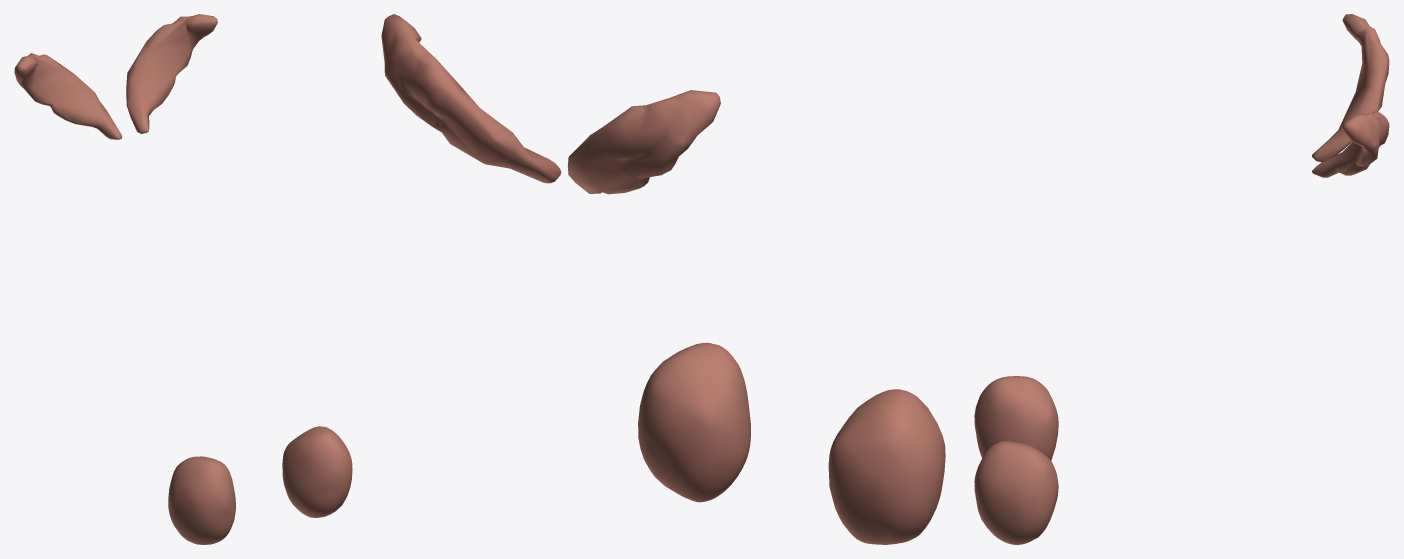
The model's file is reproductive.glb.
3 renders of one model, left to right at view 1: azimuth 30°, elevation 25°; view 2: azimuth 150°, elevation 25°; view 3: azimuth 270°, elevation 25°, orthographic. The views are drawn at different scales.
Visible parts, largest first — view 1: testis_l, seminal_l, testis_r, seminal_r; view 2: testis_r, testis_l, seminal_l, seminal_r; view 3: testis_l, testis_r, seminal_r, seminal_l.
Boxes of the visible parts, left/top/right/bottom form: testis_l: left=282, top=426, right=352, bottom=517; seminal_l: left=126, top=14, right=217, bottom=133; testis_r: left=168, top=456, right=235, bottom=544; seminal_r: left=14, top=53, right=122, bottom=139; testis_r: left=828, top=389, right=945, bottom=544; testis_l: left=638, top=342, right=750, bottom=502; seminal_l: left=381, top=14, right=561, bottom=183; seminal_r: left=567, top=90, right=720, bottom=194; testis_l: left=974, top=441, right=1058, bottom=544; testis_r: left=974, top=376, right=1058, bottom=460; seminal_r: left=1312, top=14, right=1389, bottom=162; seminal_l: left=1312, top=111, right=1389, bottom=177.
Bounding box in the file's own units: 0.0719 × 0.1322 × 0.1121.
